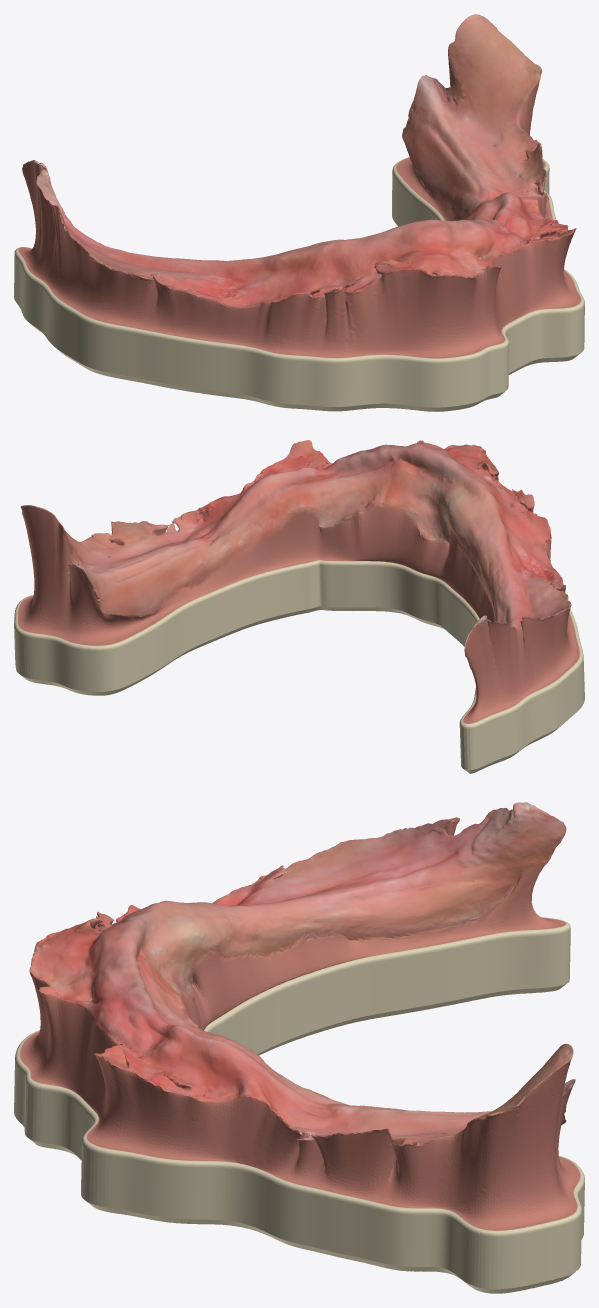
File: lower-1.glb
3 renders of one model, top to bottom at view 1: azimuth 30°, elevation 25°; view 2: azimuth 150°, elevation 25°; view 3: azimuth 270°, elevation 25°, orthographic. The views are drawn at different scales.
Visible parts, largest first — view 1: ModelBuilder_BaseMaxilla; view 2: ModelBuilder_BaseMaxilla; view 3: ModelBuilder_BaseMaxilla.
Part boxes in pixels (<box>): ModelBuilder_BaseMaxilla: <box>14,14,584,411</box>; ModelBuilder_BaseMaxilla: <box>14,440,584,773</box>; ModelBuilder_BaseMaxilla: <box>14,802,584,1293</box>.
Bounding box in the file's own units: 74.55 × 25.12 × 57.27.
